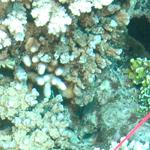alive: (3, 1, 148, 149)
